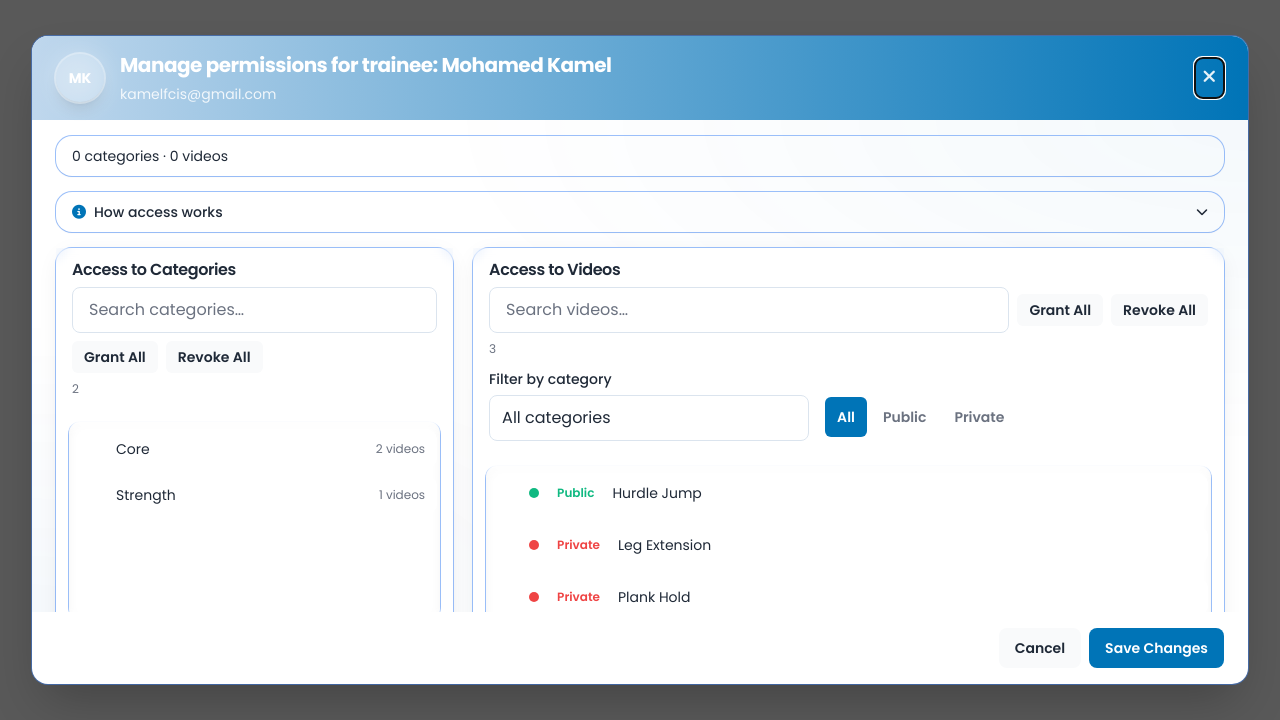
Test case: TraineeAccessModal › Grant All videos selects only visible filtered videos
Select "Core" in the dropdown with test id "video-category-filter" at (649, 418), box [489, 395, 809, 441]
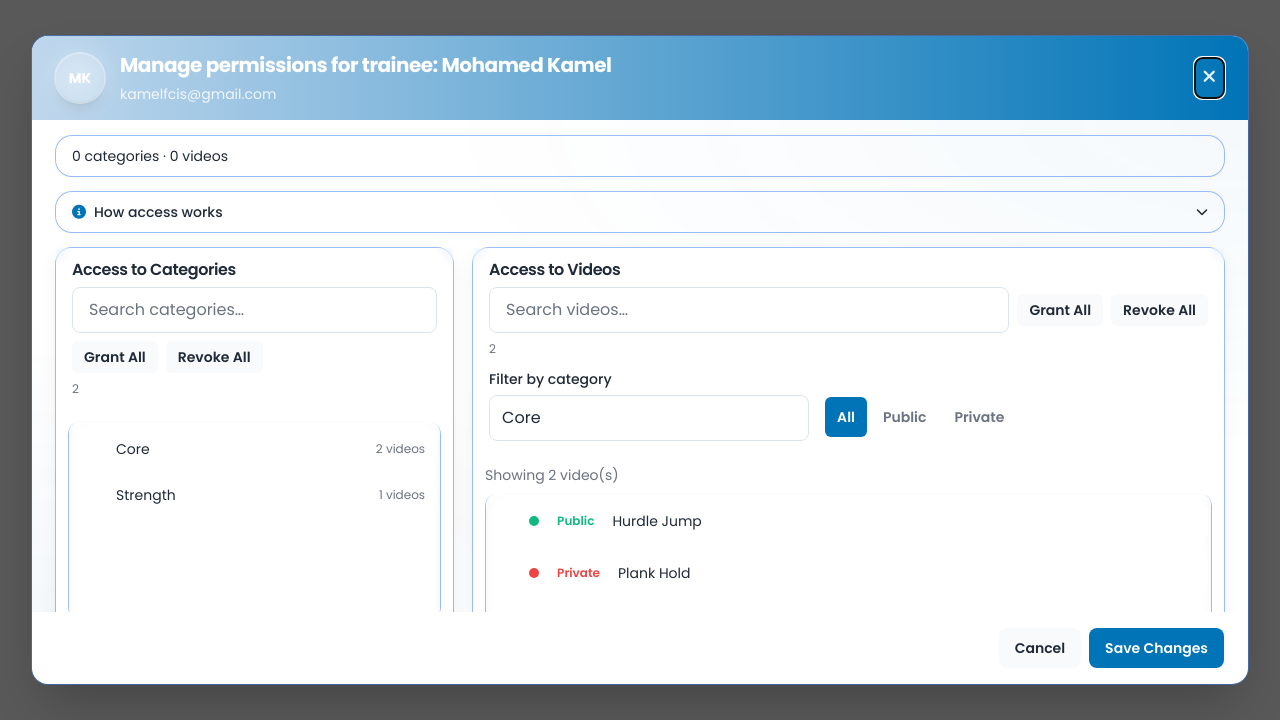
Click the 1st button "Grant All" at (1060, 310), box [1017, 294, 1103, 326]
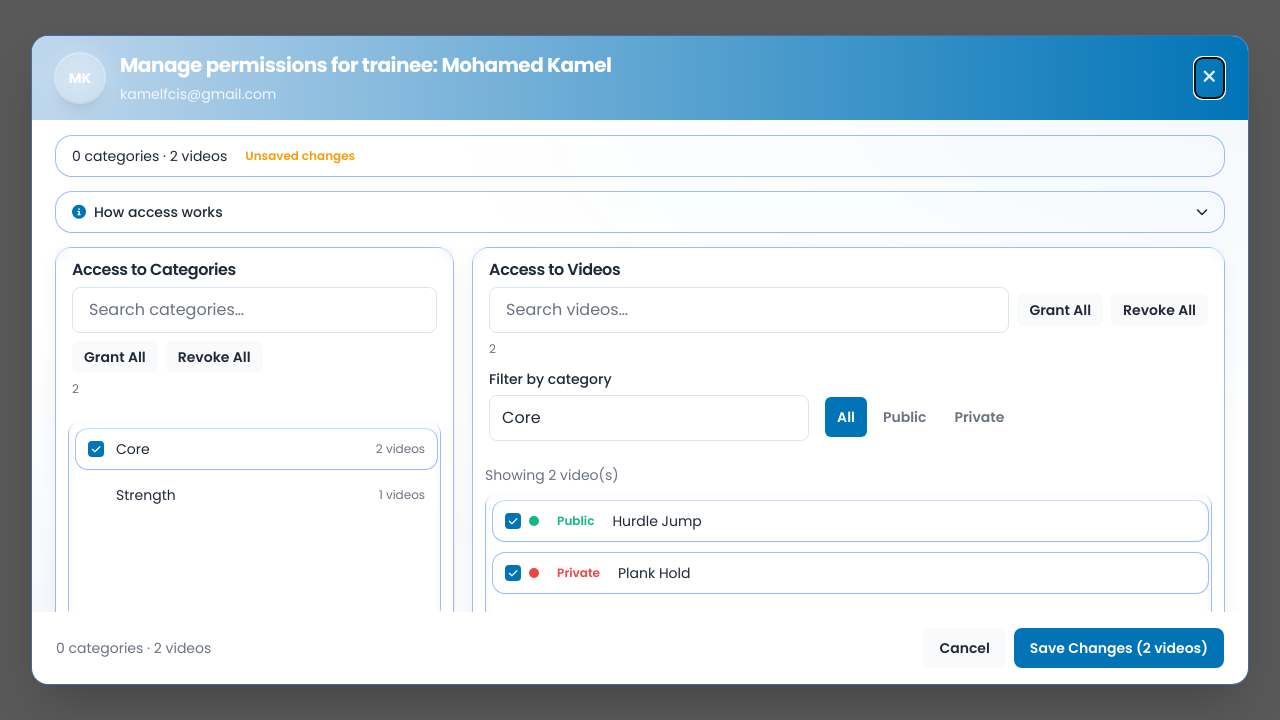
Expected: the text labelled "Leg Extension" is not shown
Expected: the checkbox named "Hurdle Jump" is checked, [505, 513, 521, 529]
Expected: the checkbox named "Plank Hold" is checked, [505, 565, 521, 581]
